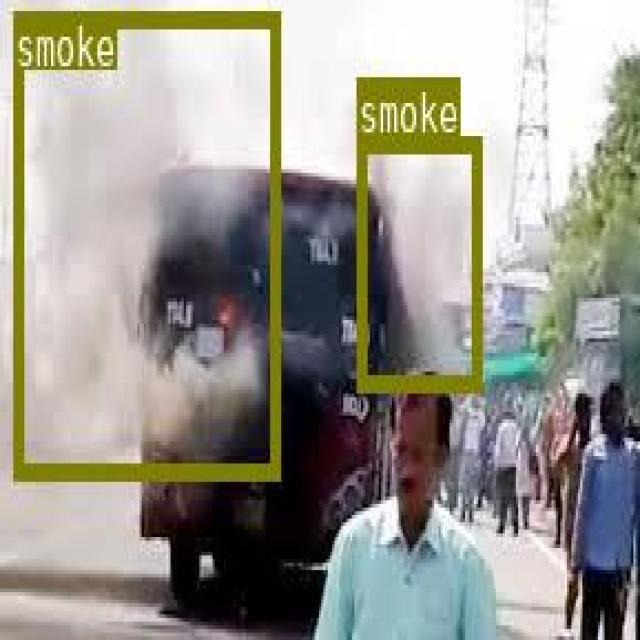smoke: (12, 7, 277, 478), (356, 133, 480, 387)
